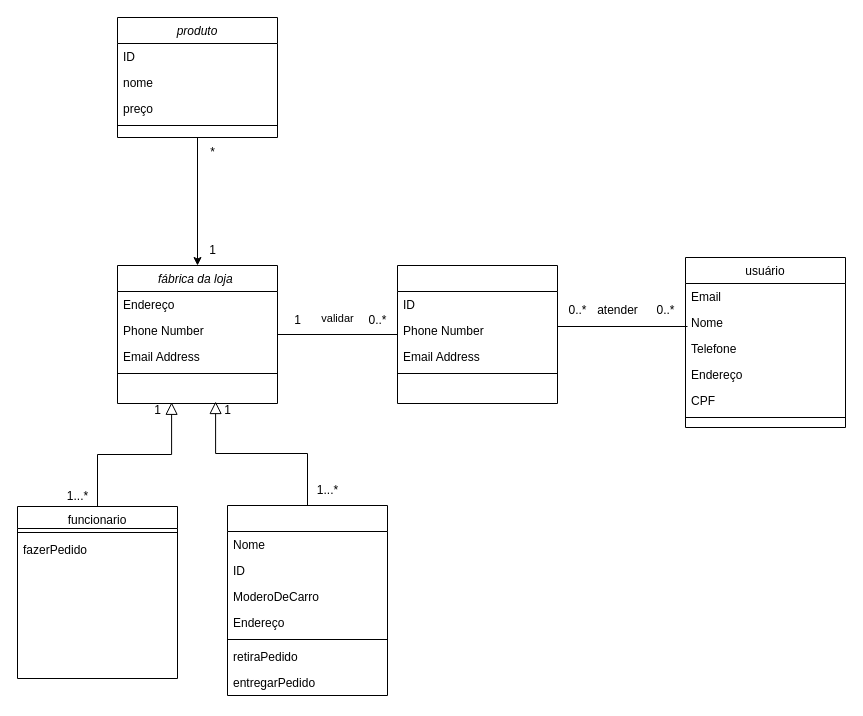
Some shapes in this 863 by 716 pixel diagram are drawn without their labels. Each missing label, with the box of its shape:
entregador: (226, 504, 388, 696)
pedido: (396, 264, 558, 404)
